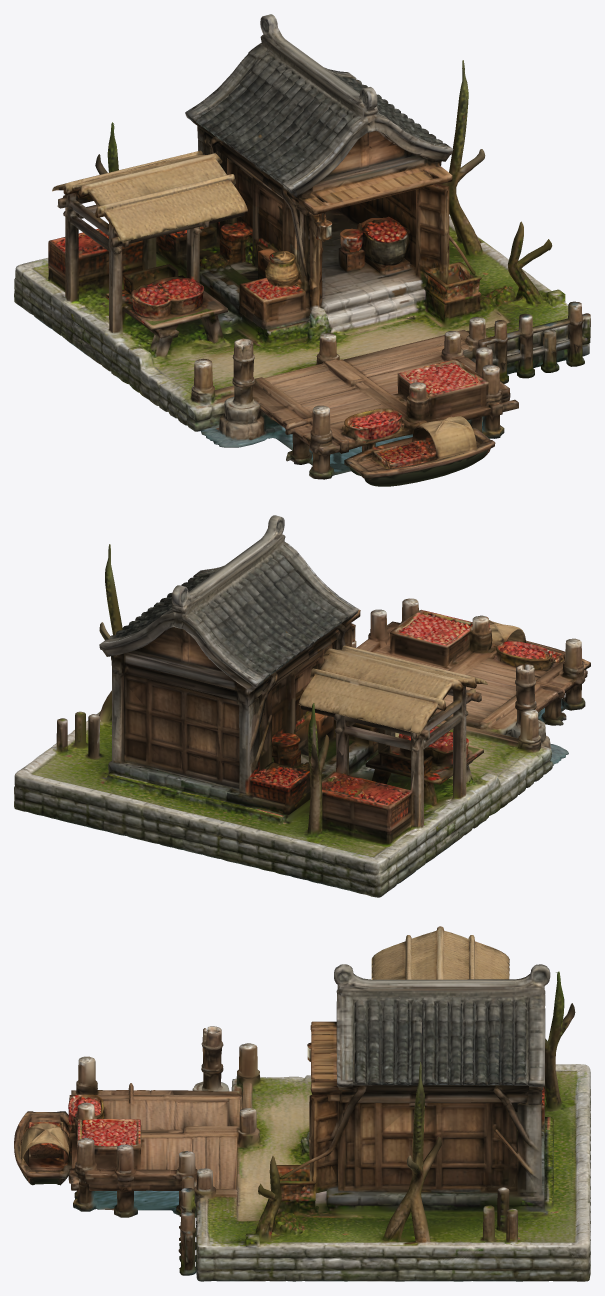
Rendered from LingnanOrchard.glb.
3 views of the same model, one above another, from view 1: azimuth 30°, elevation 25°; view 2: azimuth 150°, elevation 25°; view 3: azimuth 270°, elevation 25° (orthographic). The views are drawn at different scales.
Visible parts, largest first — view 1: node_0; view 2: node_0; view 3: node_0.
Part boxes in pixels (box(x1,y1,x2,y2)): node_0: box(14, 14, 590, 486); node_0: box(14, 515, 590, 897); node_0: box(14, 926, 590, 1281).
Size of the model in its own units: 0.7 by 0.4274 by 0.9073.
Materials: 1 (1 with a texture image).
